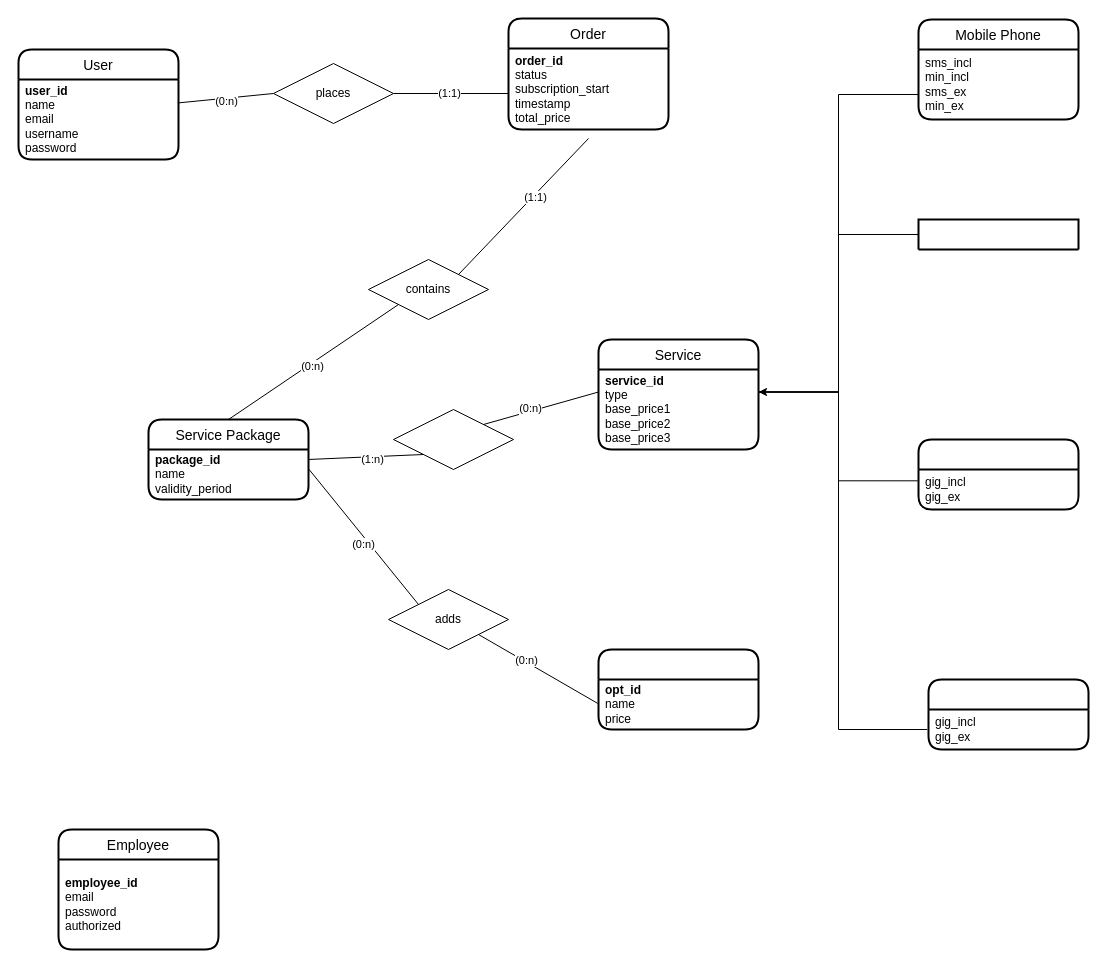
Image size: 1106x967. Some labels were removed from this diagram. Here are the shapes that lost their labels. From the top down, the box of each, then its label:
(917, 218, 1079, 250): Fixed Phone
(392, 408, 514, 470): bundles
(917, 438, 1079, 510): Mobile Internet
(597, 648, 759, 730): Optional Service
(927, 678, 1089, 750): Fixed Internet
